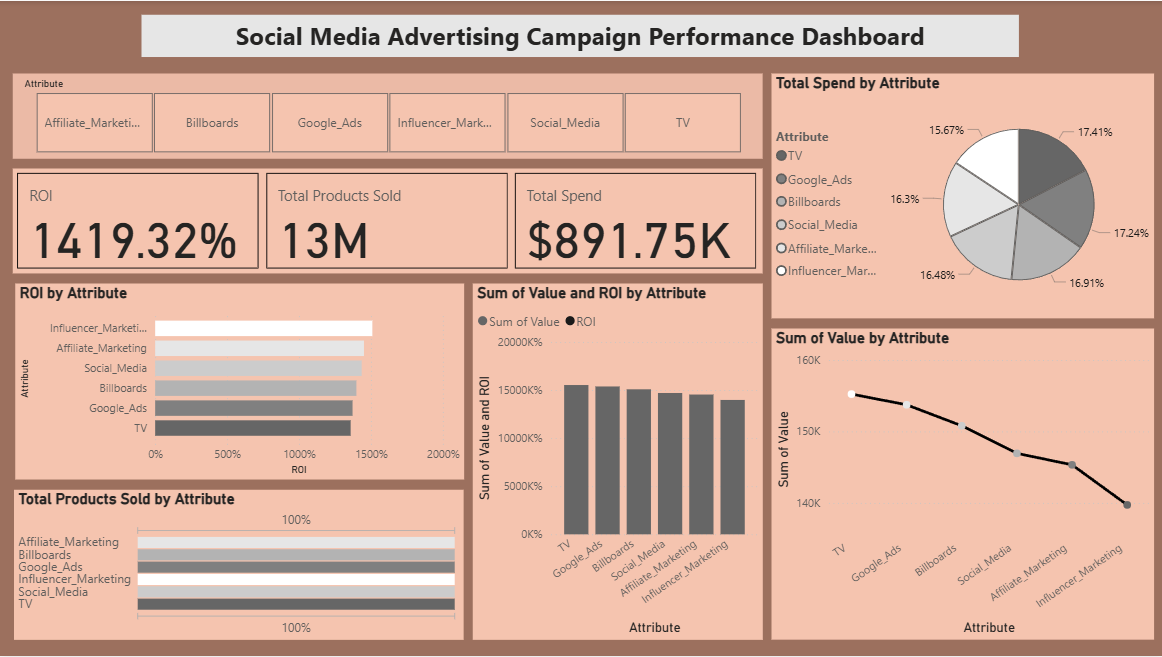

The page's visual inventory and layout, read from the dashboard file:
{"tool":"powerbi","page":{"name":"Page 1","canvas":[1280,720],"ordinal":0},"visuals":[{"type":"cardVisual","fields":{"Data":["Advertising_Data.ROI","Advertising_Data.Total Products Sold","Advertising_Data.Total Spend"]},"box":[15.1,183.9,823.3,115.3],"z":0},{"type":"funnel","fields":{"Category":["Advertising_Data.Attribute"],"Y":["Advertising_Data.Total Products Sold"]},"box":[16.5,536.5,494,164.7],"z":1000},{"type":"pieChart","fields":{"Category":["Advertising_Data.Attribute"],"Y":["Advertising_Data.Total Spend"]},"box":[848,79.6,419.9,269],"z":2000},{"type":"barChart","fields":{"Category":["Advertising_Data.Attribute"],"Y":["Advertising_Data.ROI"]},"box":[17.8,310.1,492.6,215.4],"z":3000},{"type":"columnChart","fields":{"Category":["Advertising_Data.Attribute"],"Y":["Sum(Advertising_Data.Value)","Advertising_Data.ROI"]},"box":[520.1,310.1,318.4,391.1],"z":4000},{"type":"lineChart","fields":{"Category":["Advertising_Data.Attribute"],"Y":["Sum(Advertising_Data.Value)"]},"box":[848,359.5,419.9,341.7],"z":5000},{"type":"slicer","fields":{"Values":["Advertising_Data.Attribute"]},"box":[15.1,79.6,823.3,93.3],"z":6000},{"type":"textbox","box":[156.4,15.1,963.3,46.7],"z":7000}]}

Visuals, with their boxes in screenshot pixels (x1, y1, x2, y2), scaled from the page's 1280x720 canvas onto the 1162x657 screenshot:
cardVisual - Advertising_Data.ROI x Advertising_Data.Total Products Sold: x1=14, y1=168, x2=761, y2=273
funnel - Advertising_Data.Attribute x Advertising_Data.Total Products Sold: x1=15, y1=490, x2=463, y2=640
pieChart - Advertising_Data.Attribute x Advertising_Data.Total Spend: x1=770, y1=73, x2=1151, y2=318
barChart - Advertising_Data.Attribute x Advertising_Data.ROI: x1=16, y1=283, x2=463, y2=480
columnChart - Advertising_Data.Attribute x Sum(Advertising_Data.Value): x1=472, y1=283, x2=761, y2=640
lineChart - Advertising_Data.Attribute x Sum(Advertising_Data.Value): x1=770, y1=328, x2=1151, y2=640
slicer - Advertising_Data.Attribute: x1=14, y1=73, x2=761, y2=158
textbox: x1=142, y1=14, x2=1016, y2=56
